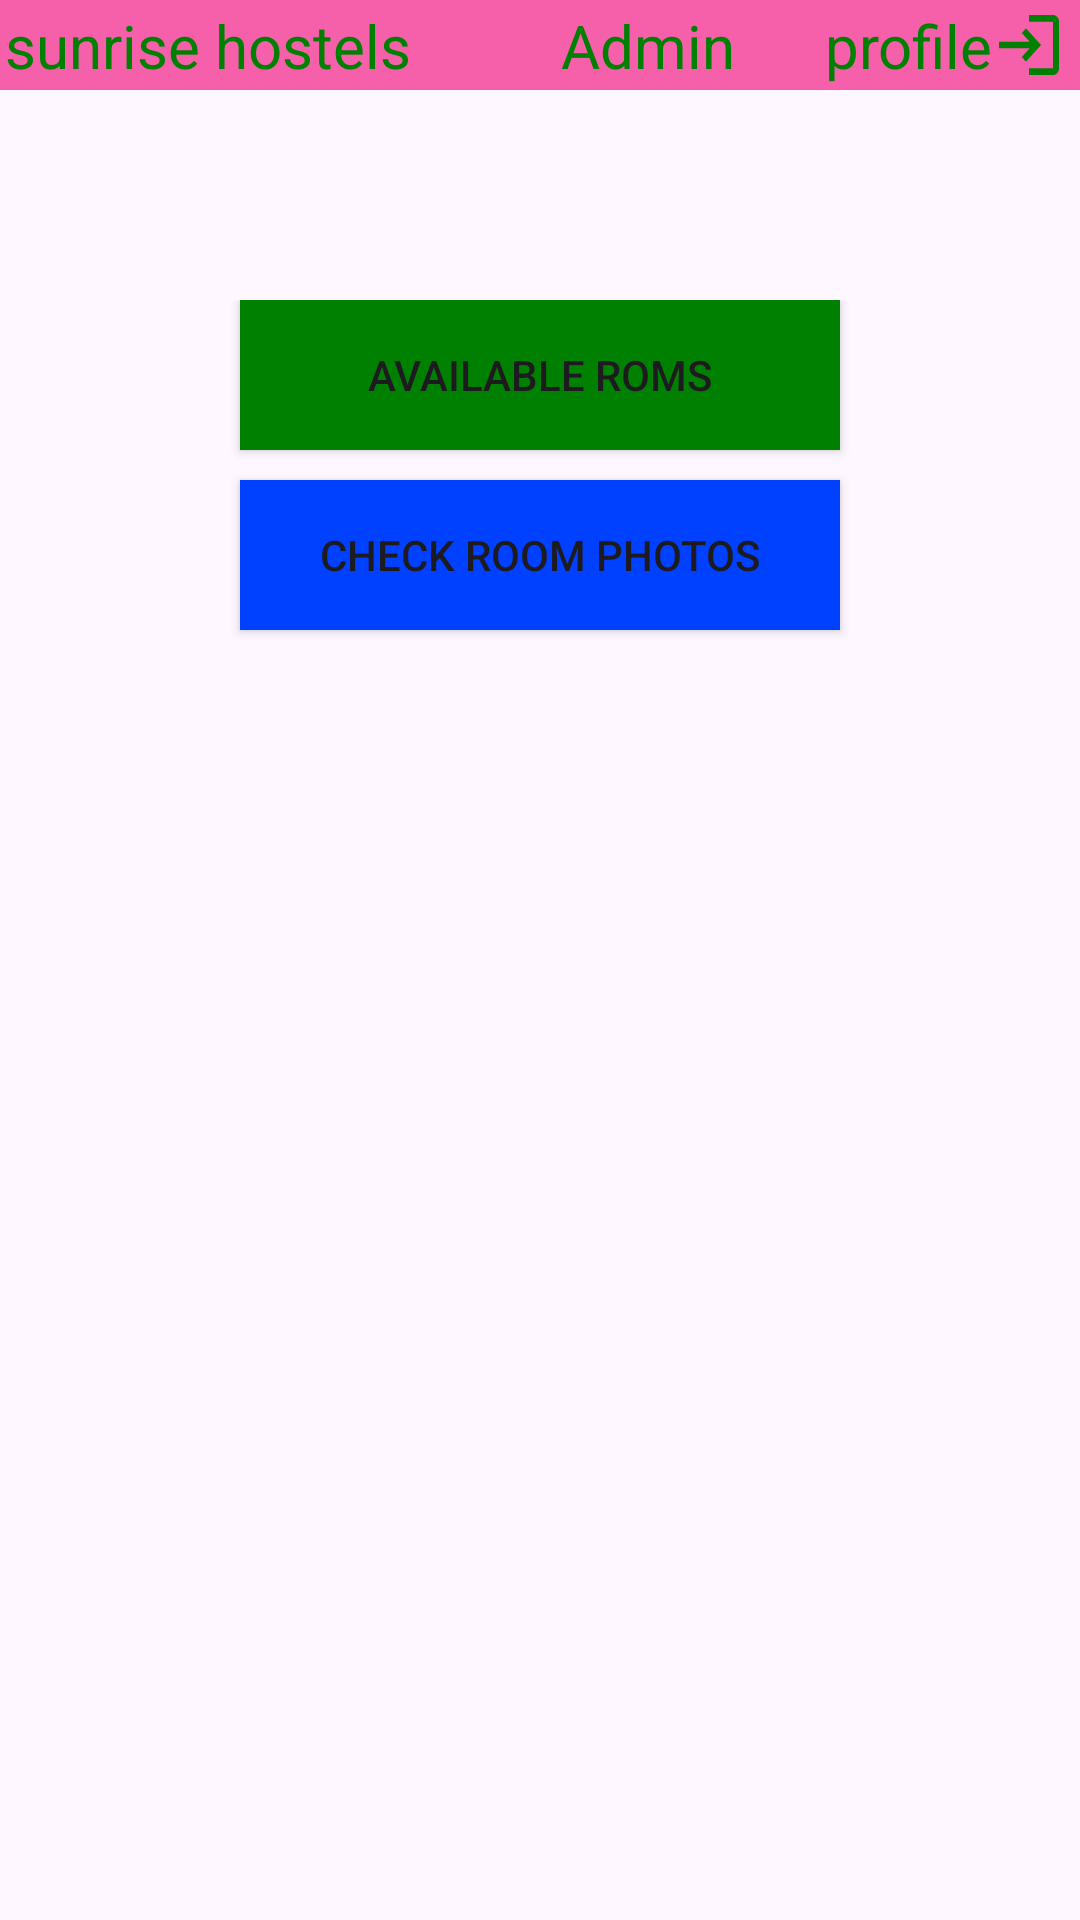

Named icons in this screenshot (1080px×1920px) and their bounding boxes, Rect(x1, y1, x2, y2):
loginicon: Rect(999, 15, 1059, 75)
